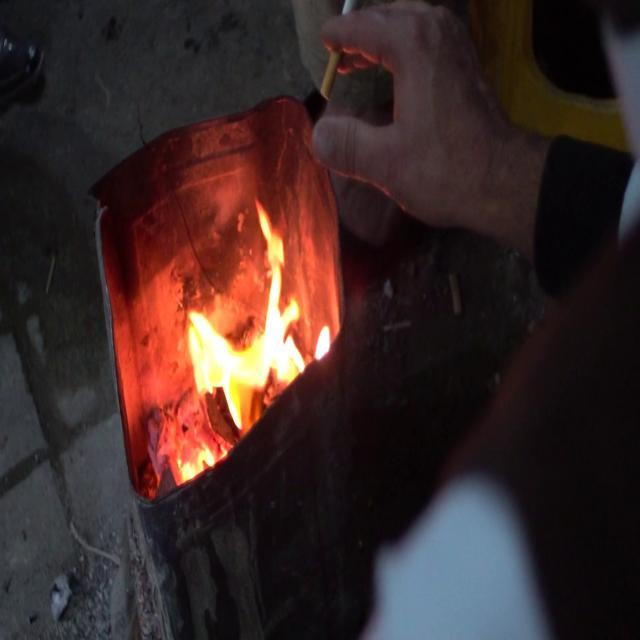Fire: (174, 194, 332, 408)
